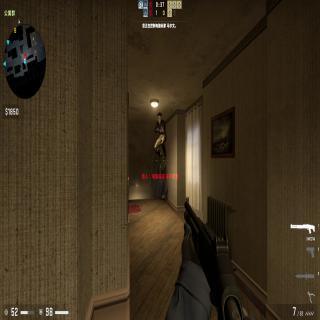T-Body: (154, 111, 166, 161)
T-Head: (157, 114, 162, 122)
